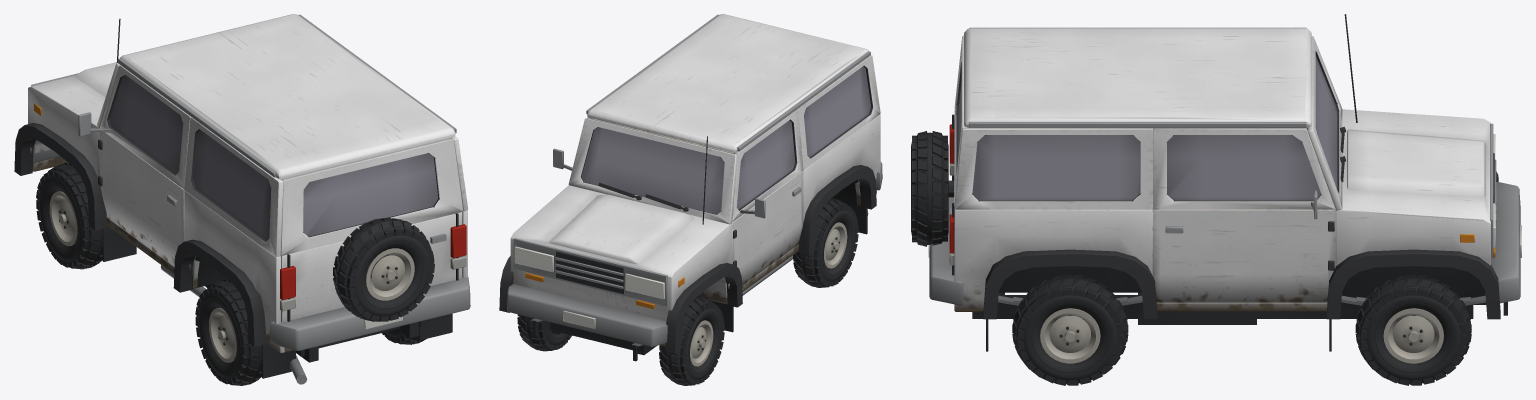
File: seventy.m.glb
3 renders of one model, left to right at view 1: azimuth 30°, elevation 25°; view 2: azimuth 150°, elevation 25°; view 3: azimuth 270°, elevation 25°, orthographic. The views are drawn at different scales.
Parts seen in each view (by area): view 1: body, door_FL, wheel_FL, wheel_RL; view 2: body, door_FL, wheel_FL, wheel_RL, wheel_FR; view 3: body, door_FR, wheel_RR, wheel_FR.
Boxes of the visible parts, x1,y1,x2,y2 form: body: (14, 14, 470, 384); door_FL: (78, 65, 191, 266); wheel_FL: (36, 162, 109, 269); wheel_RL: (195, 279, 268, 385); body: (499, 14, 882, 361); door_FL: (732, 109, 803, 285); wheel_FL: (659, 296, 724, 385); wheel_RL: (793, 198, 858, 287); wheel_FR: (517, 314, 571, 351); body: (911, 14, 1521, 351); door_FR: (1153, 128, 1335, 302); wheel_RR: (1012, 274, 1128, 385); wheel_FR: (1355, 274, 1471, 385).
Bounding box in the file's own units: 2.11 × 2.13 × 4.11.
16 materials, 1 textured.
